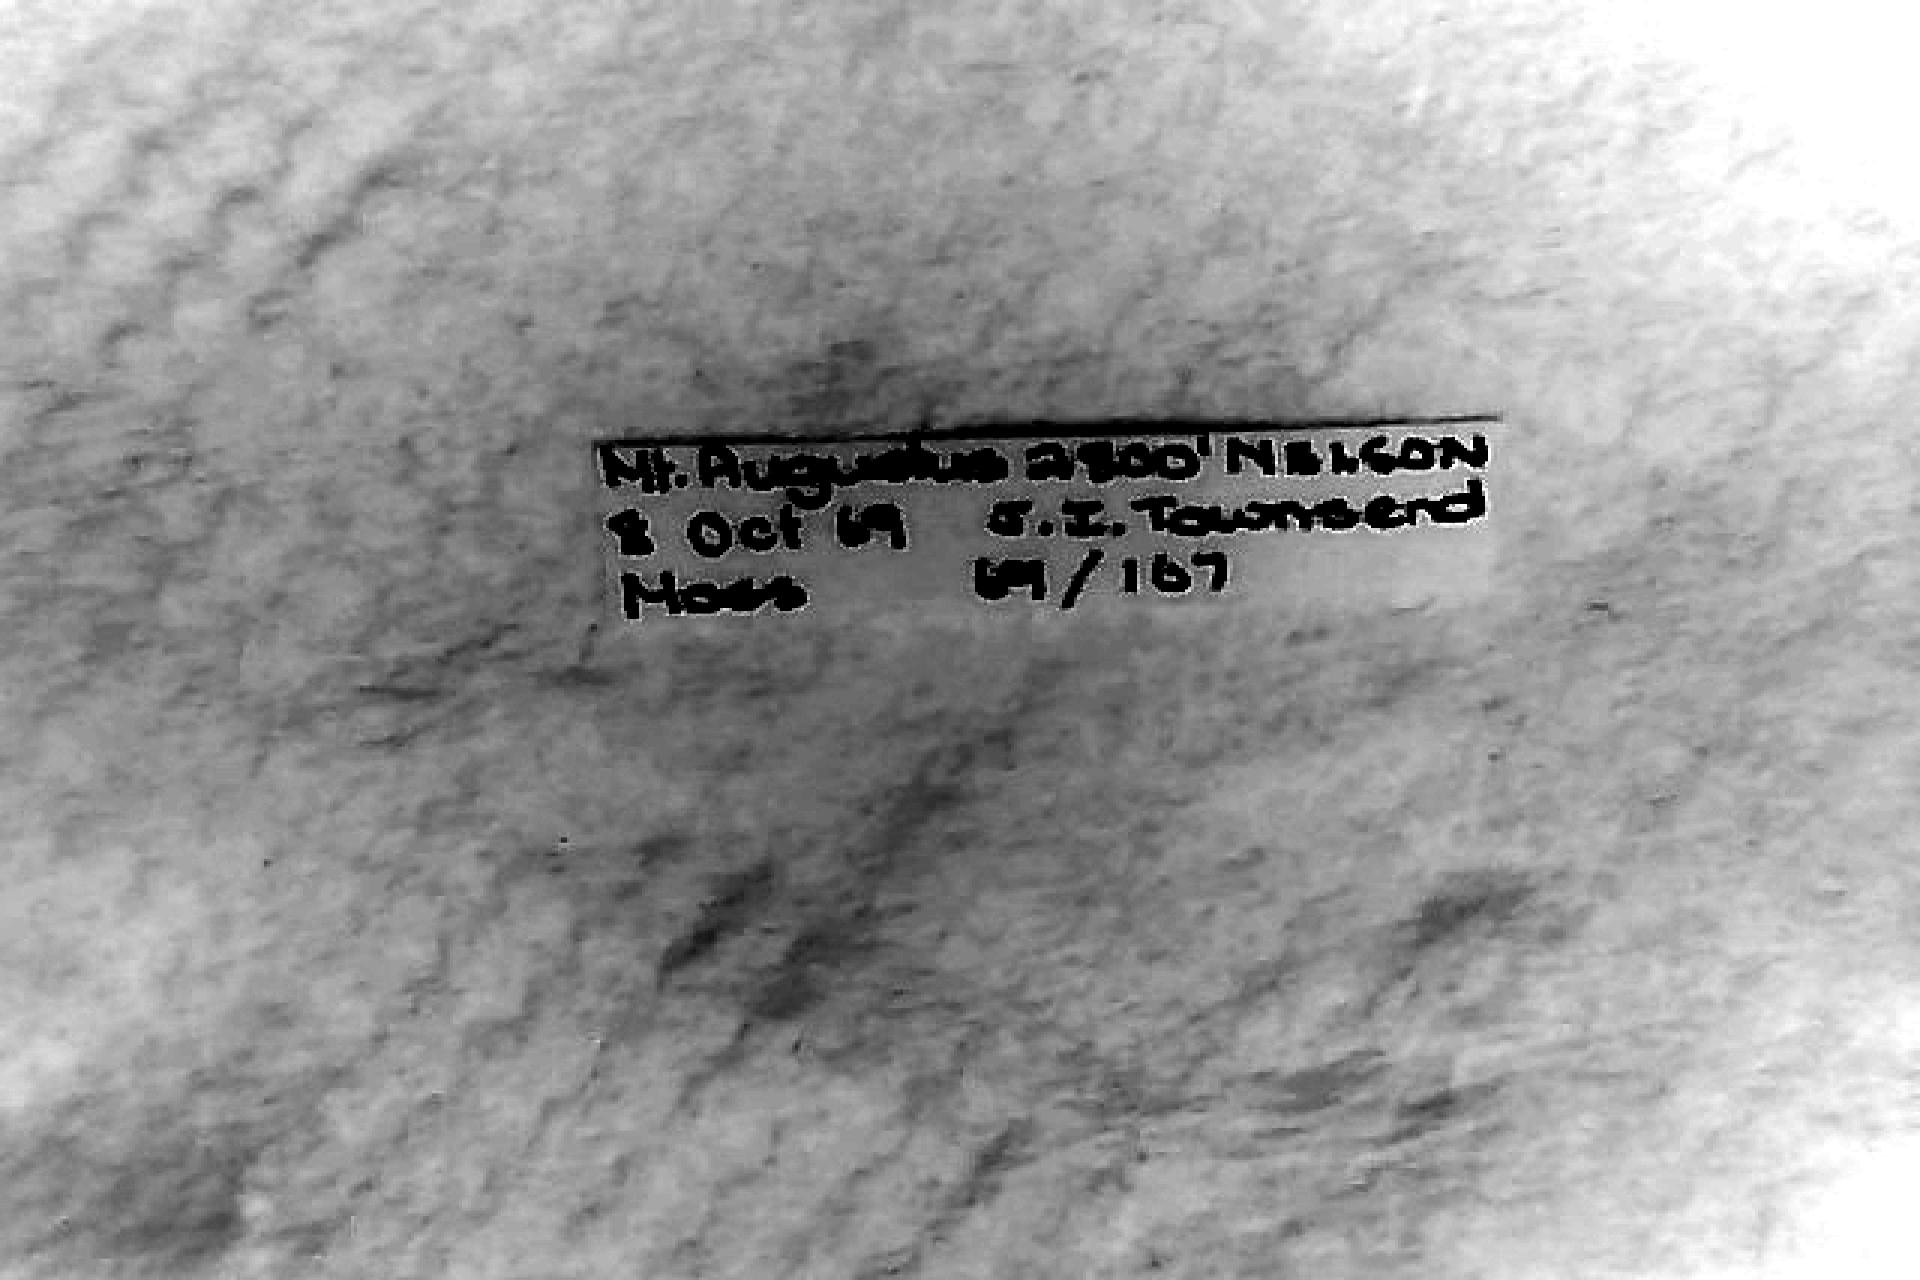hand_label: (600, 420, 1500, 619)
